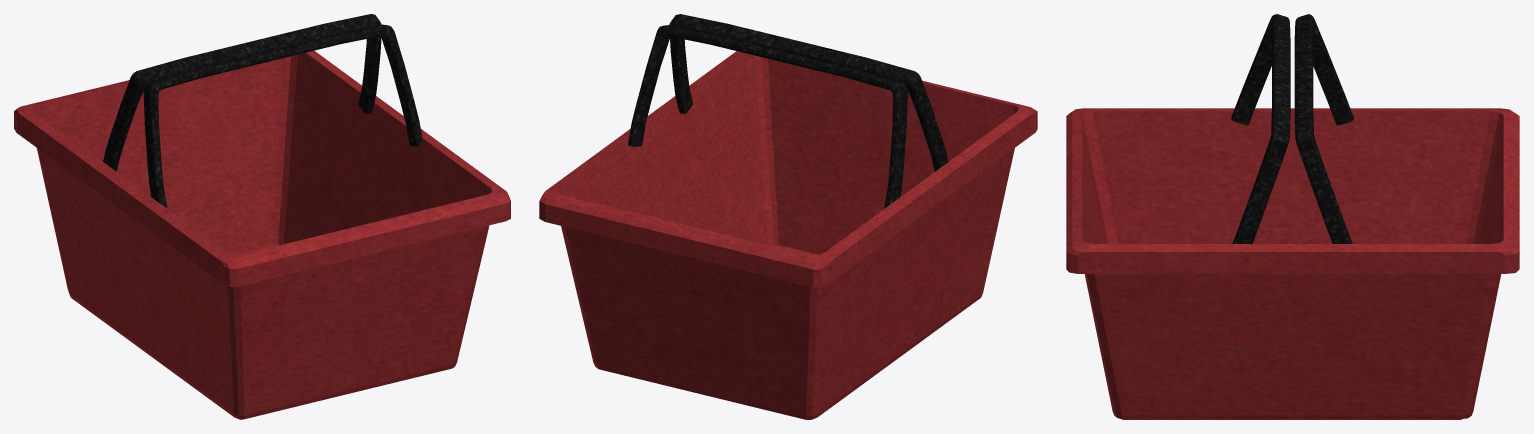
Rendered from canasto.glb.
3 renders of one model, left to right at view 1: azimuth 30°, elevation 25°; view 2: azimuth 150°, elevation 25°; view 3: azimuth 270°, elevation 25°, orthographic. The views are drawn at different scales.
Visible parts, largest first — view 1: Canasto; view 2: Canasto; view 3: Canasto.
Boxes of the visible parts, box(x1,y1,x2,y2) form: Canasto: box(14, 14, 510, 419); Canasto: box(539, 14, 1037, 419); Canasto: box(1066, 14, 1519, 419).
Size of the model in its own units: 3.24 by 3.12 by 4.31.
Materials: 2 (2 with a texture image).
